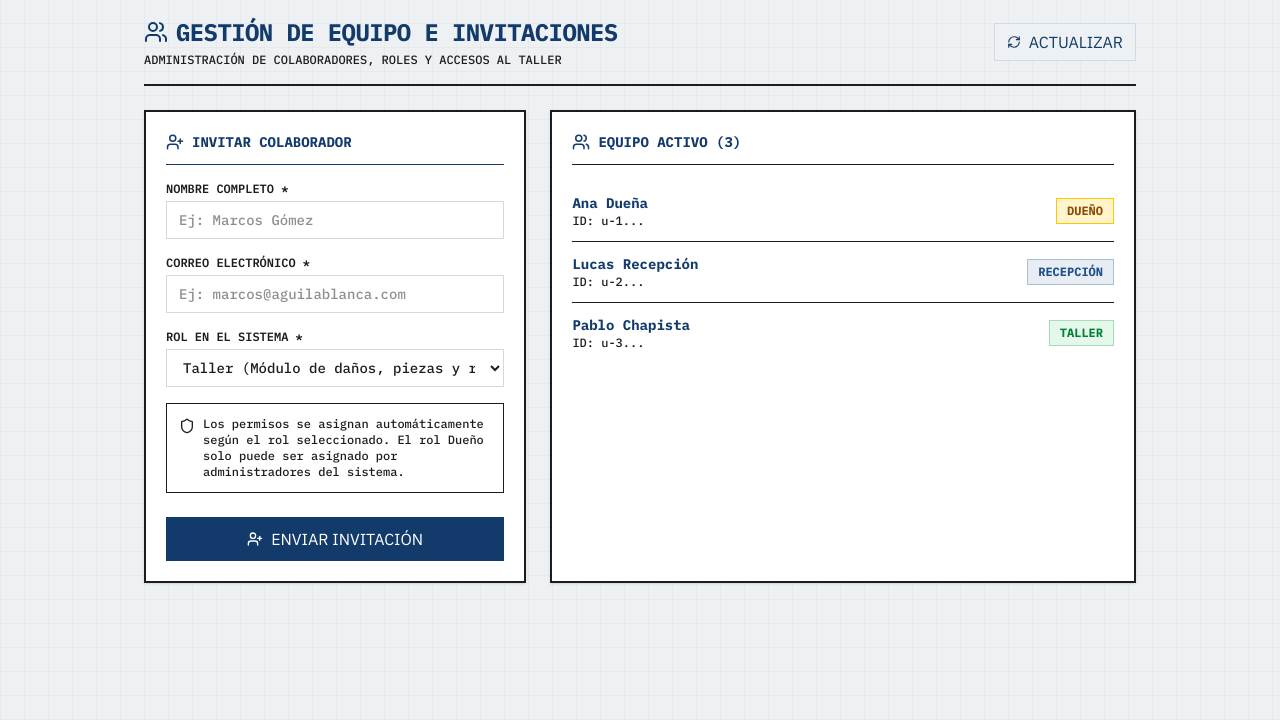
Test: InvitarPage › muestra mensaje de error si falla la API
The image size is (1280, 720).
Expected: the text "Ana Dueña" is shown, left=572, top=193, right=648, bottom=213
Type "Colaborador Fallido" into the field labelled "Nombre Completo *" at (335, 220), box left=166, top=201, right=504, bottom=239
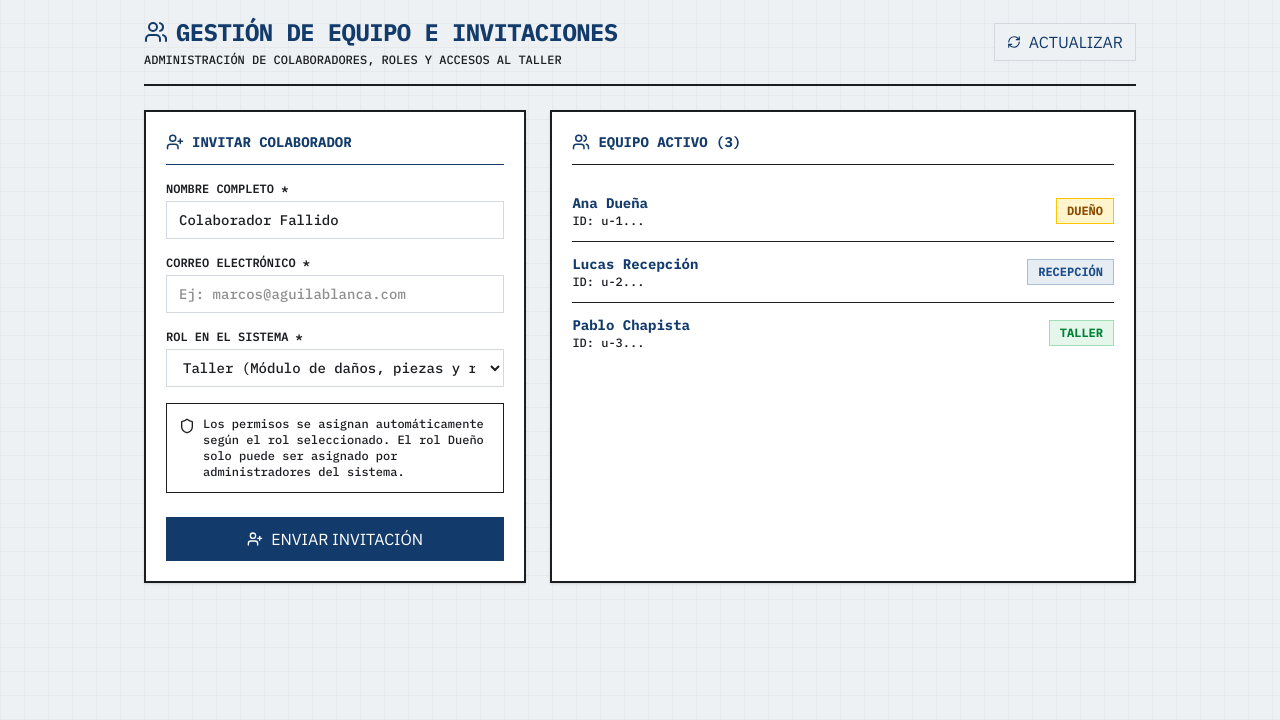
Type "fallo@taller.com" into the field labelled "Correo Electrónico *" at (335, 294), box left=166, top=275, right=504, bottom=313
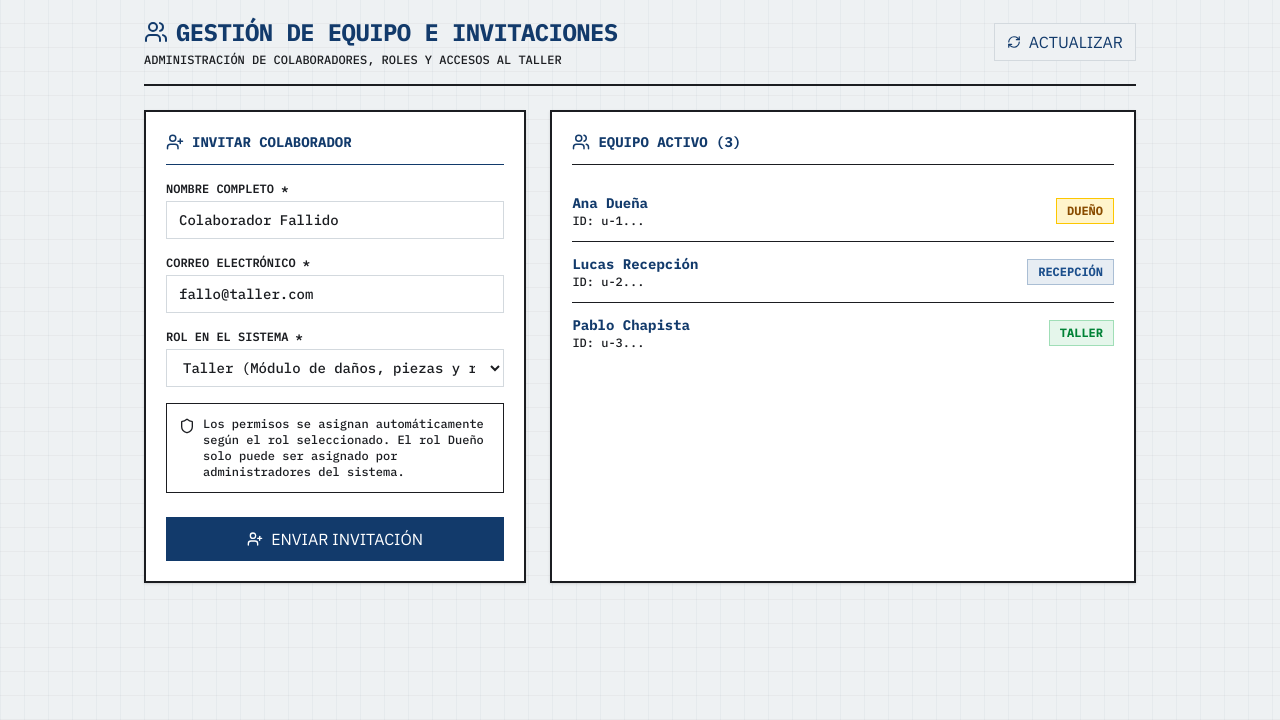
Click the button "Enviar Invitación" at (335, 539), box left=166, top=517, right=504, bottom=561
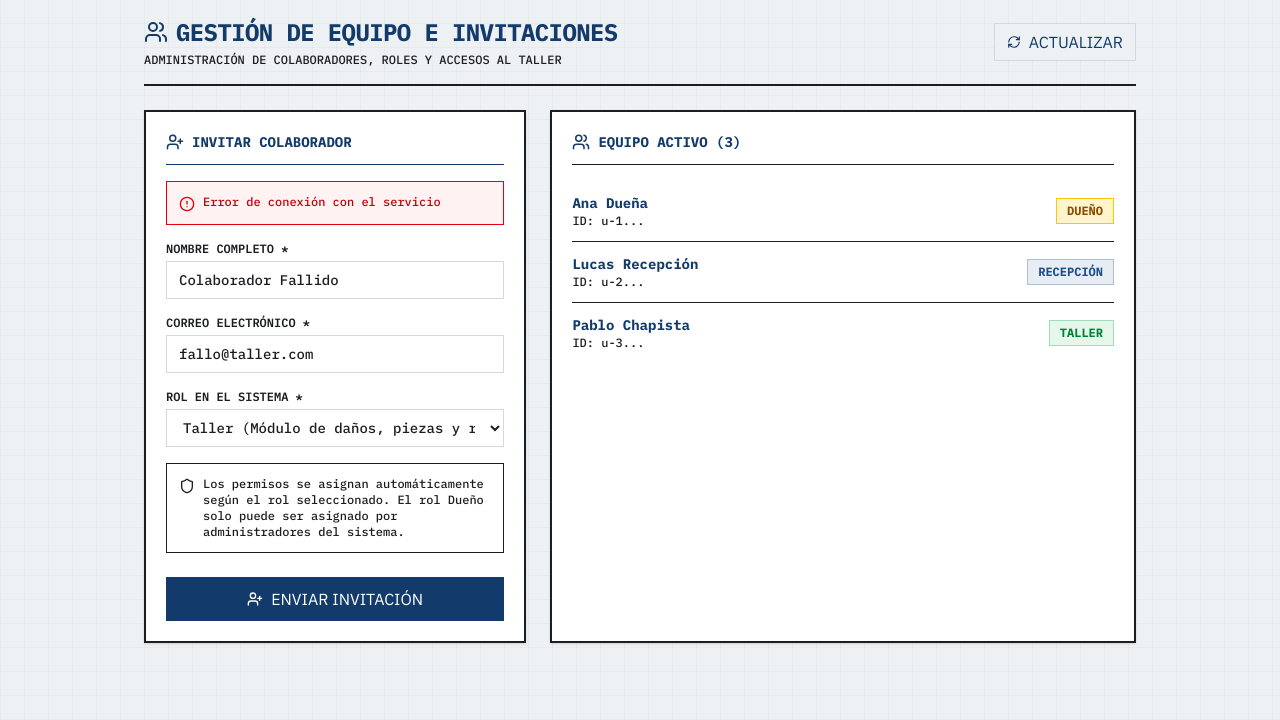
Result: the text "Error de conexión con el servicio" is shown at left=203, top=194, right=441, bottom=210
